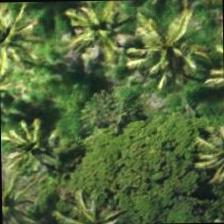Kelapa_Sawit: (115, 16, 207, 108), (54, 0, 146, 84), (0, 102, 84, 194), (0, 1, 51, 82)
